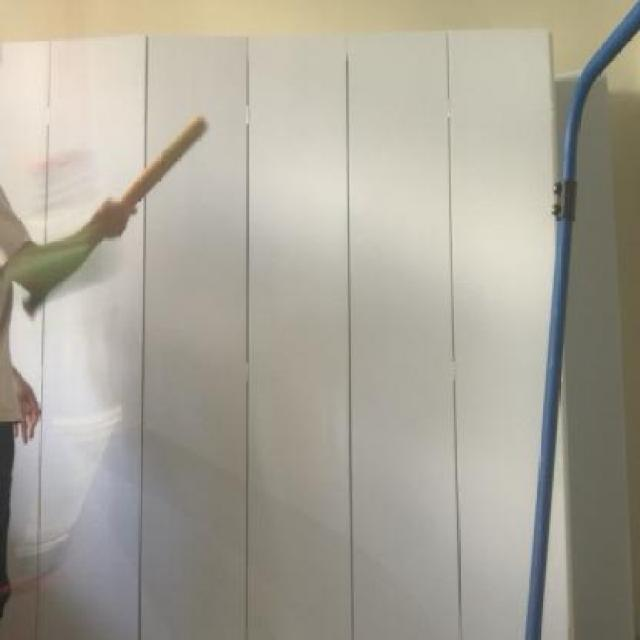baseball: (8, 218, 127, 290)
